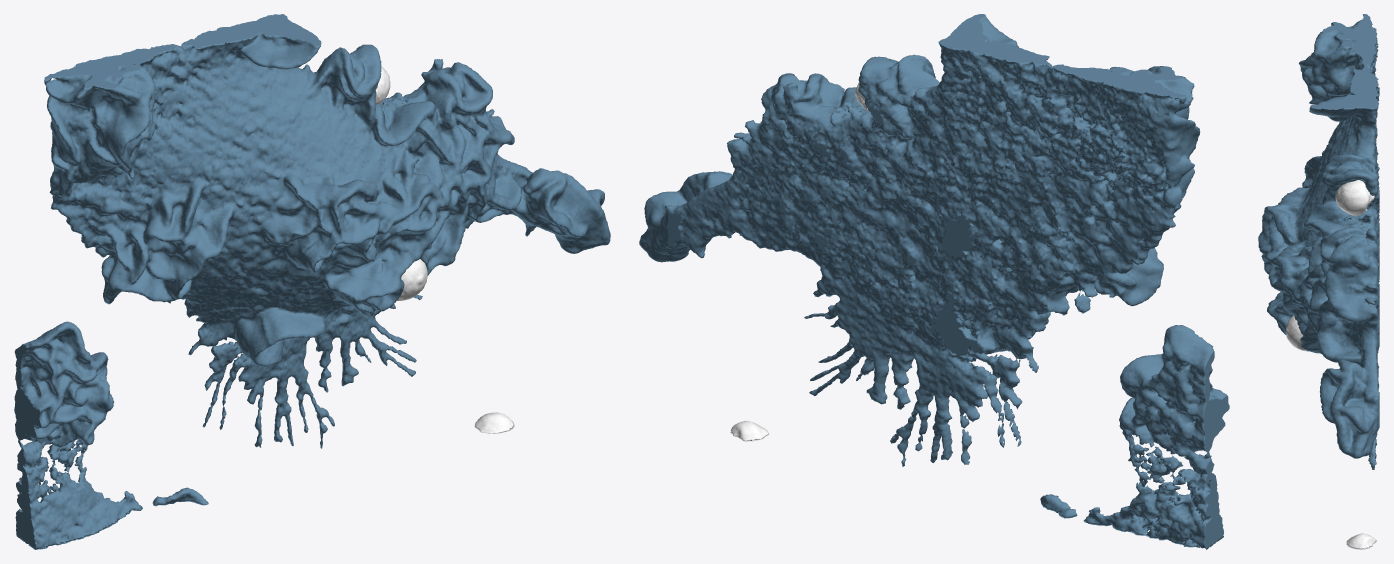
3 renders of one model, left to right at view 1: azimuth 30°, elevation 25°; view 2: azimuth 150°, elevation 25°; view 3: azimuth 270°, elevation 25°, orthographic. The views are drawn at different scales.
Visible parts, largest first — view 1: surface (×2); view 2: surface (×2); view 3: surface (×2).
Boxes of the visible parts, x1,y1,x2,y2 form: surface (×2): (14, 14, 610, 549); surface (×2): (639, 14, 1229, 549); surface (×2): (1258, 14, 1379, 549).
Bounding box in the file's own units: 588 × 436 × 134.
